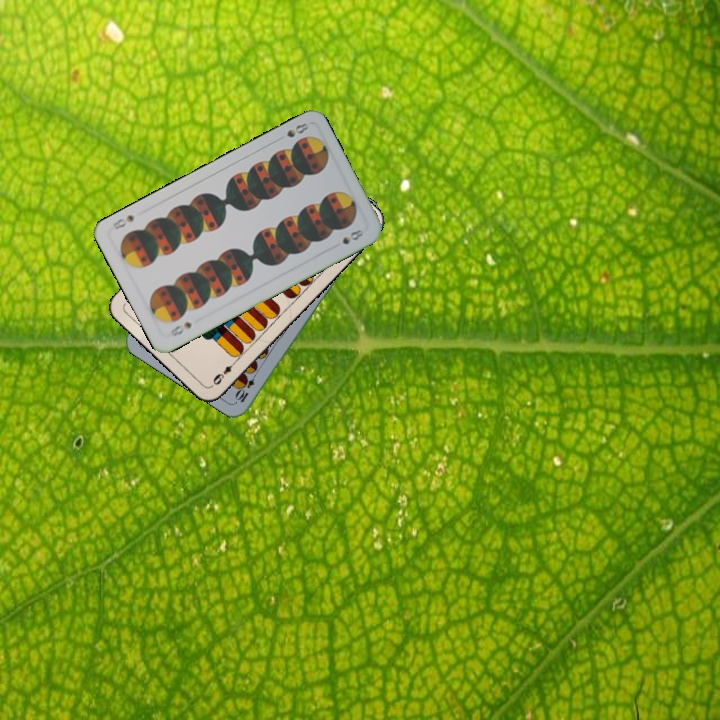E10: (232, 367, 260, 405)
E9: (208, 356, 240, 389)
S8: (273, 119, 311, 144), (166, 318, 195, 339)
